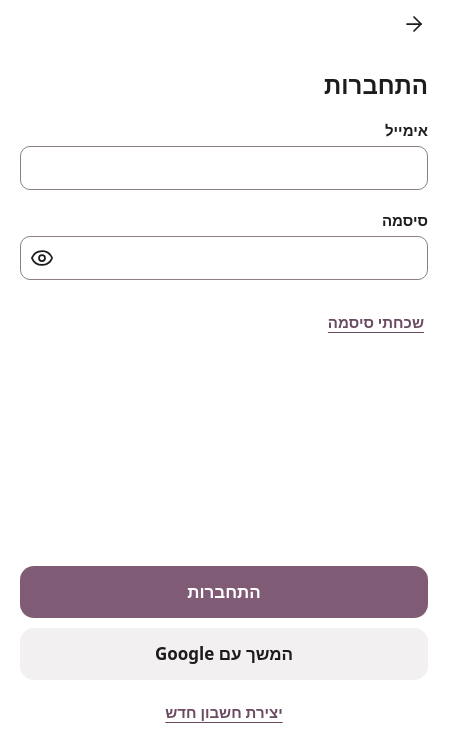
Test: [F1.5 c6][ERR-001] the other sign-in failures: three texts, never an Auth or server string › [c6] 429
expect the heading "התחברות" is shown: met, box [324,68,428,101]
In the field labelled "אימייל": (224, 168) [20,146,428,190], type "dana.cohen@example.com"
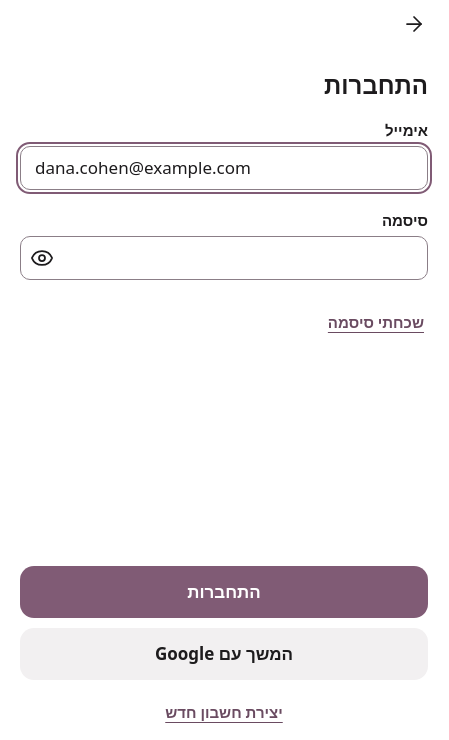
In the password field labelled "סיסמה": (224, 258) [20,236,428,280], type "correct horse 42 zq"
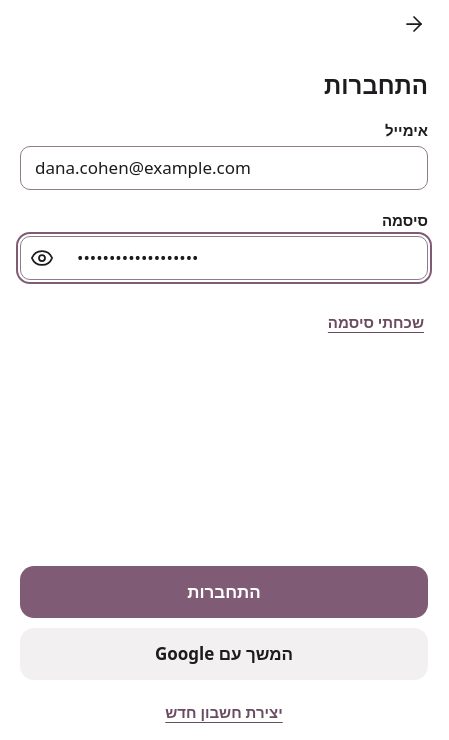
Click the button "התחברות": (224, 592) [20,566,428,618]
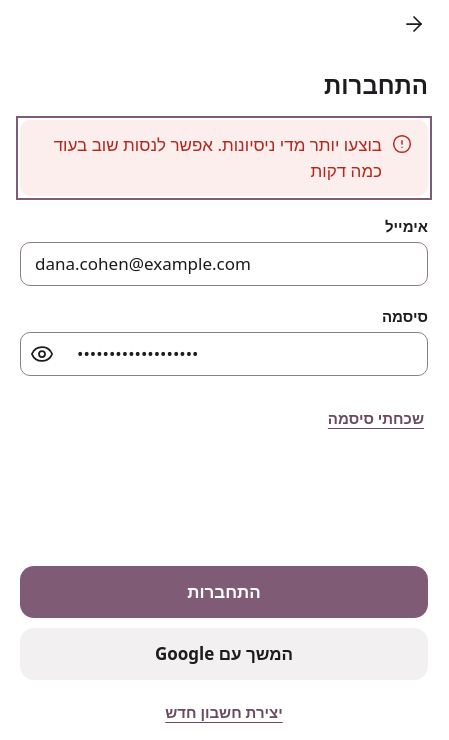
expect the number of messages is 1: met, box [20,120,428,196]
expect the message reads "בוצעו יותר מדי ניסיונות. אפשר לנסות שוב בעוד כמה דקות": met, box [54,133,382,182]
